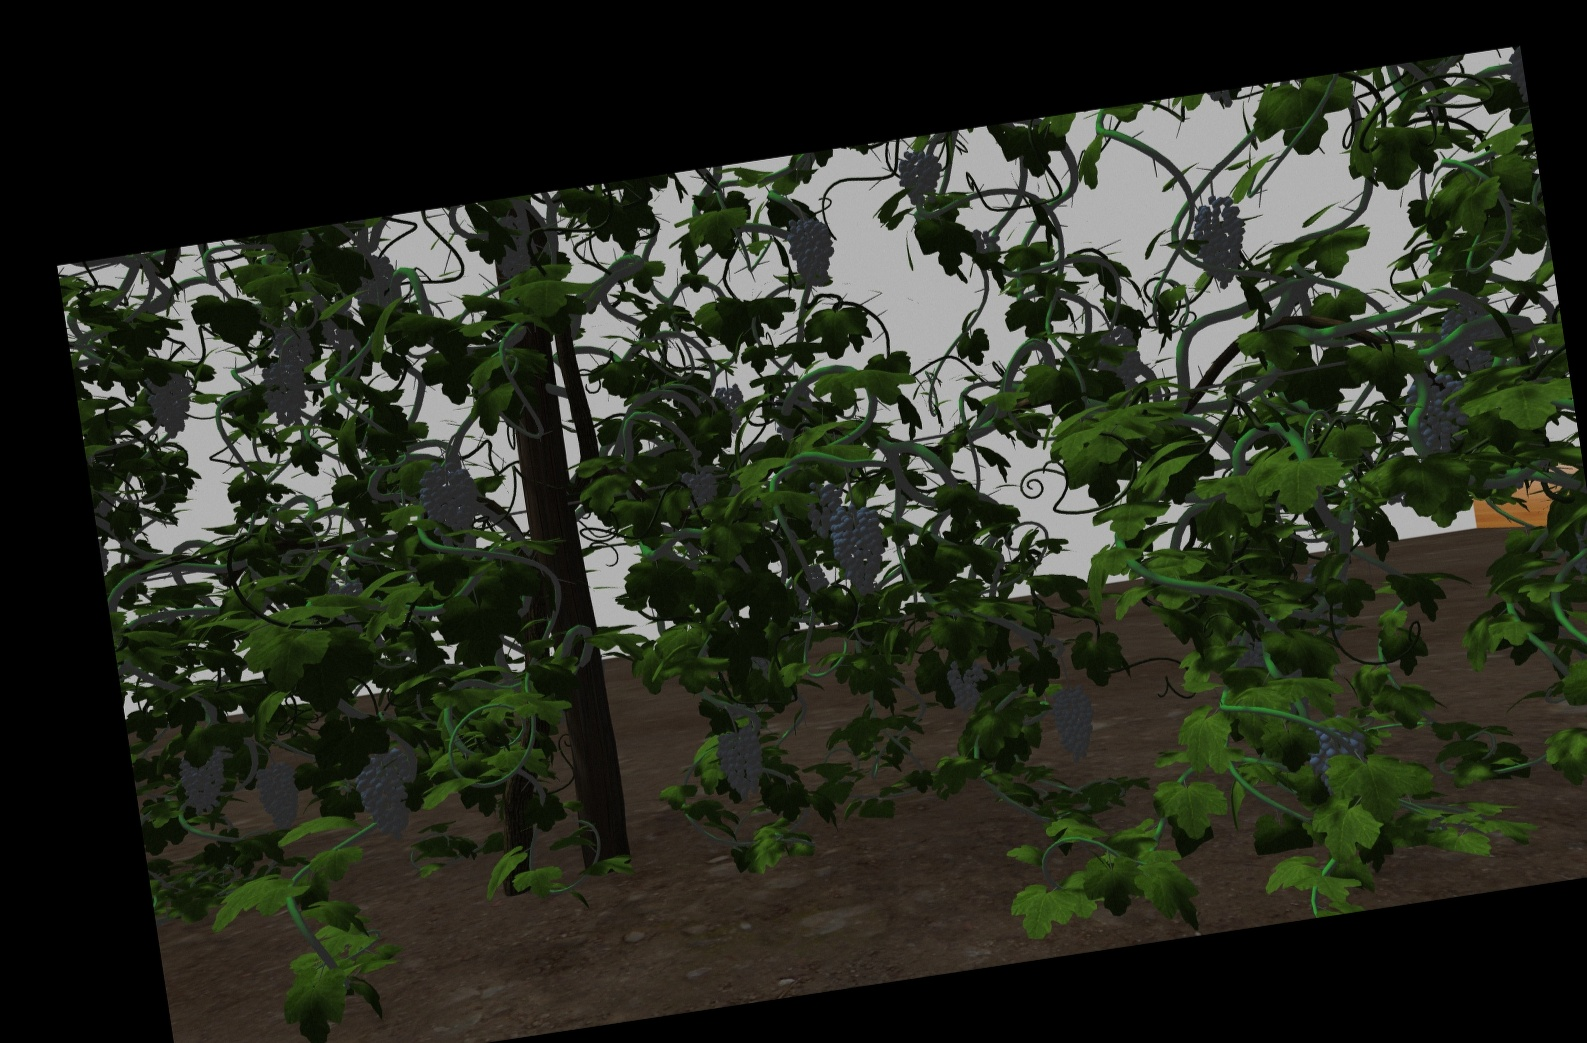grape: (1399, 374, 1469, 455), (1190, 193, 1248, 288), (826, 506, 887, 596), (354, 748, 410, 840), (419, 464, 481, 539), (1309, 719, 1365, 796), (140, 362, 192, 440), (714, 721, 766, 800), (177, 744, 228, 822), (787, 213, 837, 288), (1049, 684, 1095, 762), (946, 653, 992, 719), (262, 363, 306, 430), (256, 762, 298, 831), (895, 149, 942, 203), (803, 480, 841, 535), (273, 324, 313, 369), (679, 464, 719, 504), (717, 383, 747, 434)
